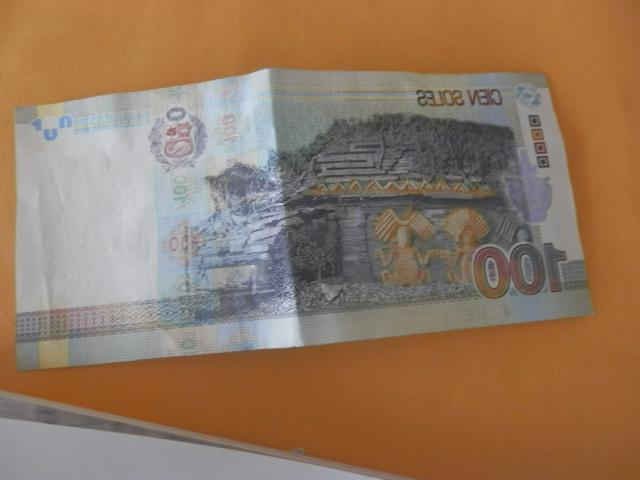B100: (15, 70, 592, 372)
